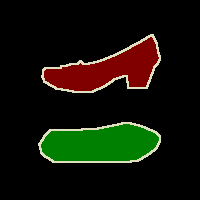shoe: (42, 34, 160, 92), (39, 123, 160, 162)
